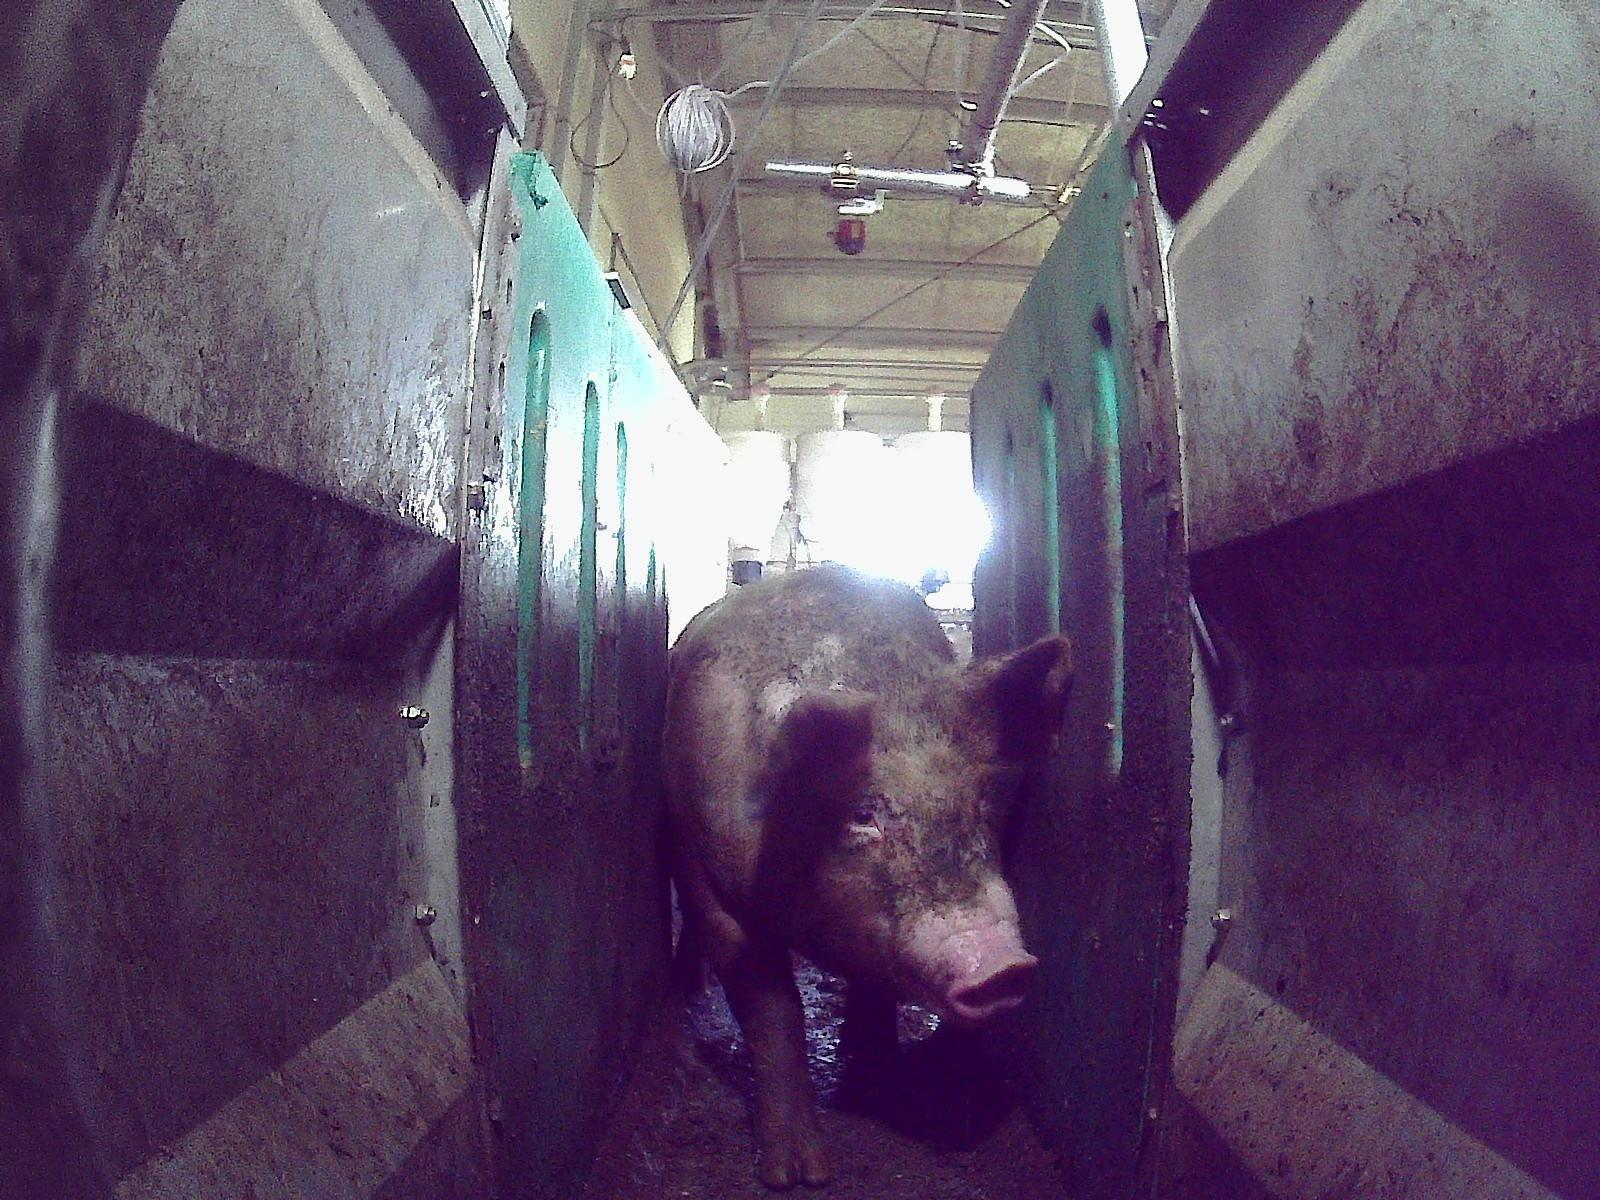Face: (768, 701, 1032, 1022)
